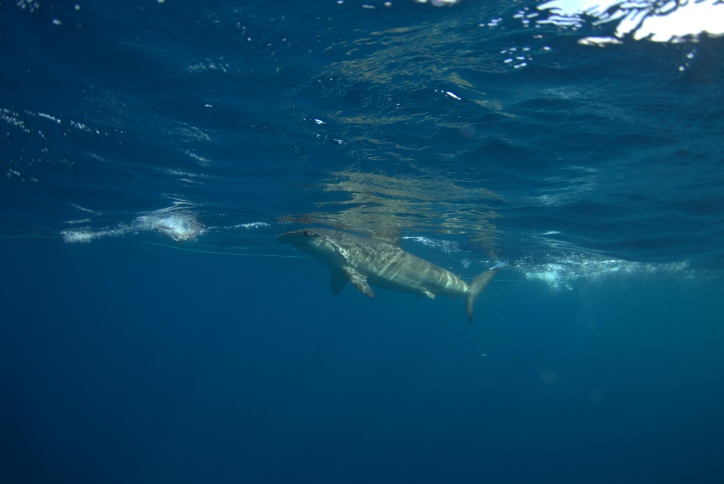Hammer: (266, 210, 523, 346)
